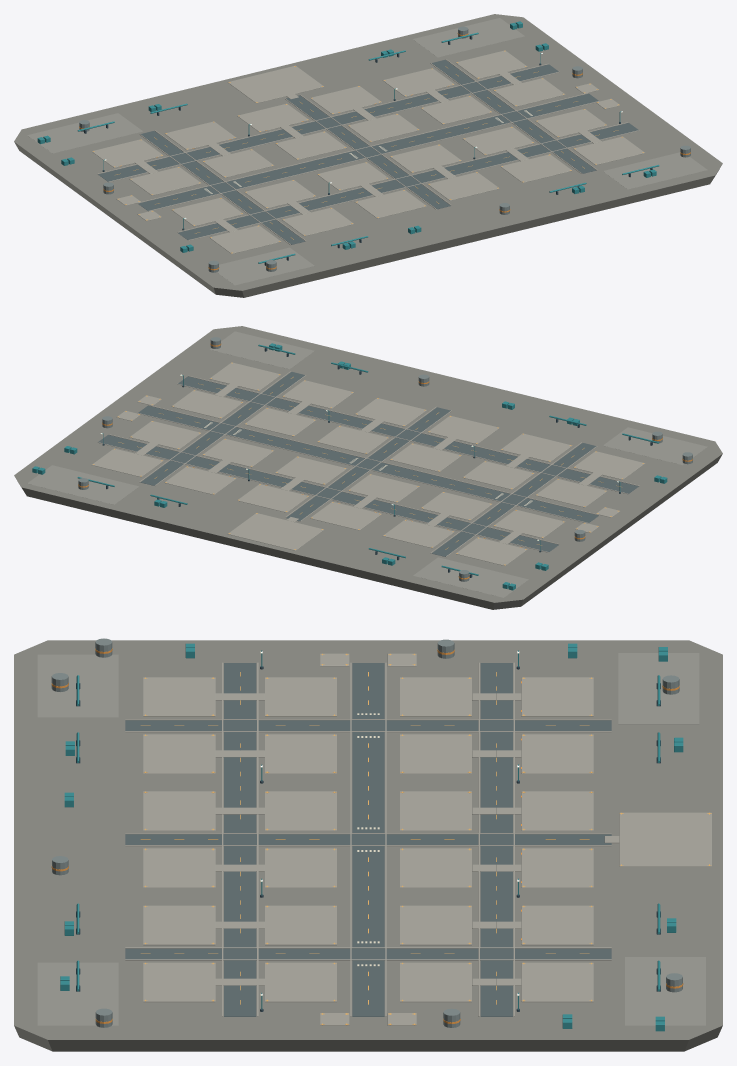
File: ground.glb
The picture shows the model from 3 angles, top to bottom: view 1: azimuth 30°, elevation 25°; view 2: azimuth 150°, elevation 25°; view 3: azimuth 270°, elevation 25°; orthographic projection. The views are drawn at different scales.
Parts seen in each view (by area): view 1: planet_industrial__Terrain, planet_industrial__Roads, planet_industrial__Decoration; view 2: planet_industrial__Terrain, planet_industrial__Roads, planet_industrial__Decoration; view 3: planet_industrial__Terrain, planet_industrial__Roads, planet_industrial__Decoration.
Boxes of the visible parts, x1=… form: planet_industrial__Terrain: x1=14, y1=14, x2=722, y2=297; planet_industrial__Roads: x1=92, y1=50, x2=644, y2=253; planet_industrial__Decoration: x1=37, y1=21, x2=690, y2=272; planet_industrial__Terrain: x1=14, y1=326, x2=722, y2=609; planet_industrial__Roads: x1=92, y1=362, x2=644, y2=565; planet_industrial__Decoration: x1=32, y1=337, x2=692, y2=590; planet_industrial__Terrain: x1=14, y1=640, x2=722, y2=1051; planet_industrial__Roads: x1=125, y1=653, x2=711, y2=1025; planet_industrial__Decoration: x1=51, y1=638, x2=683, y2=1031.
Bounding box in the file's own units: 140 × 5.45 × 105.
